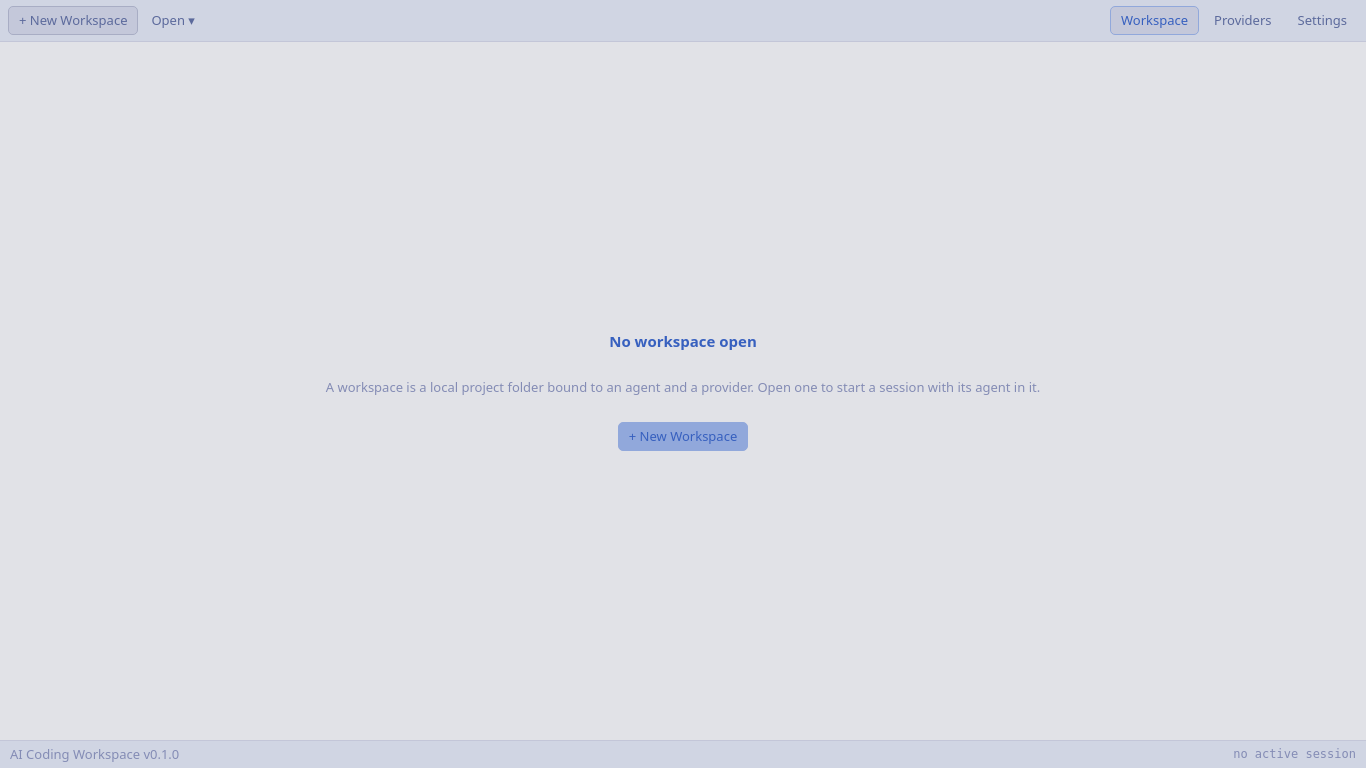
Test case: WorkspaceDialog: end-to-end through the shell › creating a workspace from the empty state opens a tab for it
Click the button "+ New Workspace" below "No workspace open": (683,436) [618,422,748,451]
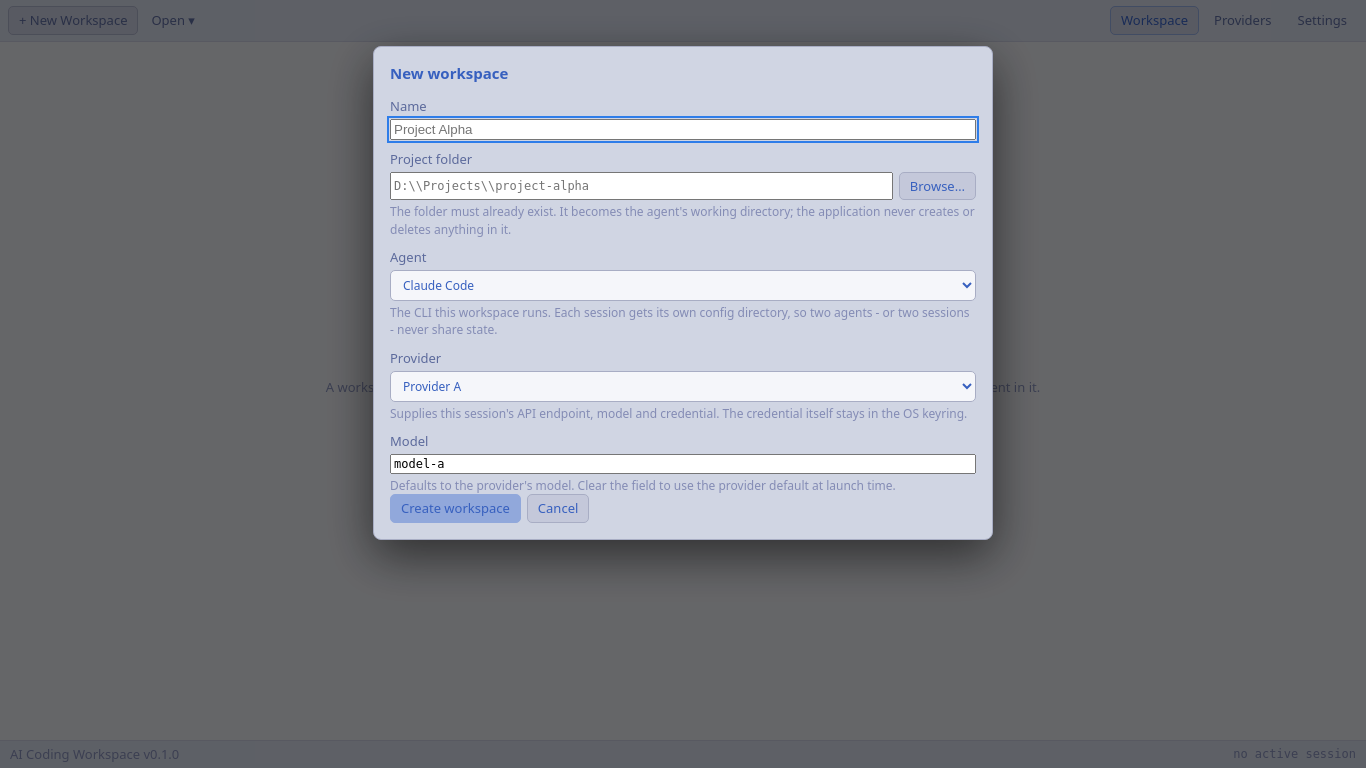
In the field labelled "Name": (683,129) [390,119,976,140], type "Delta"
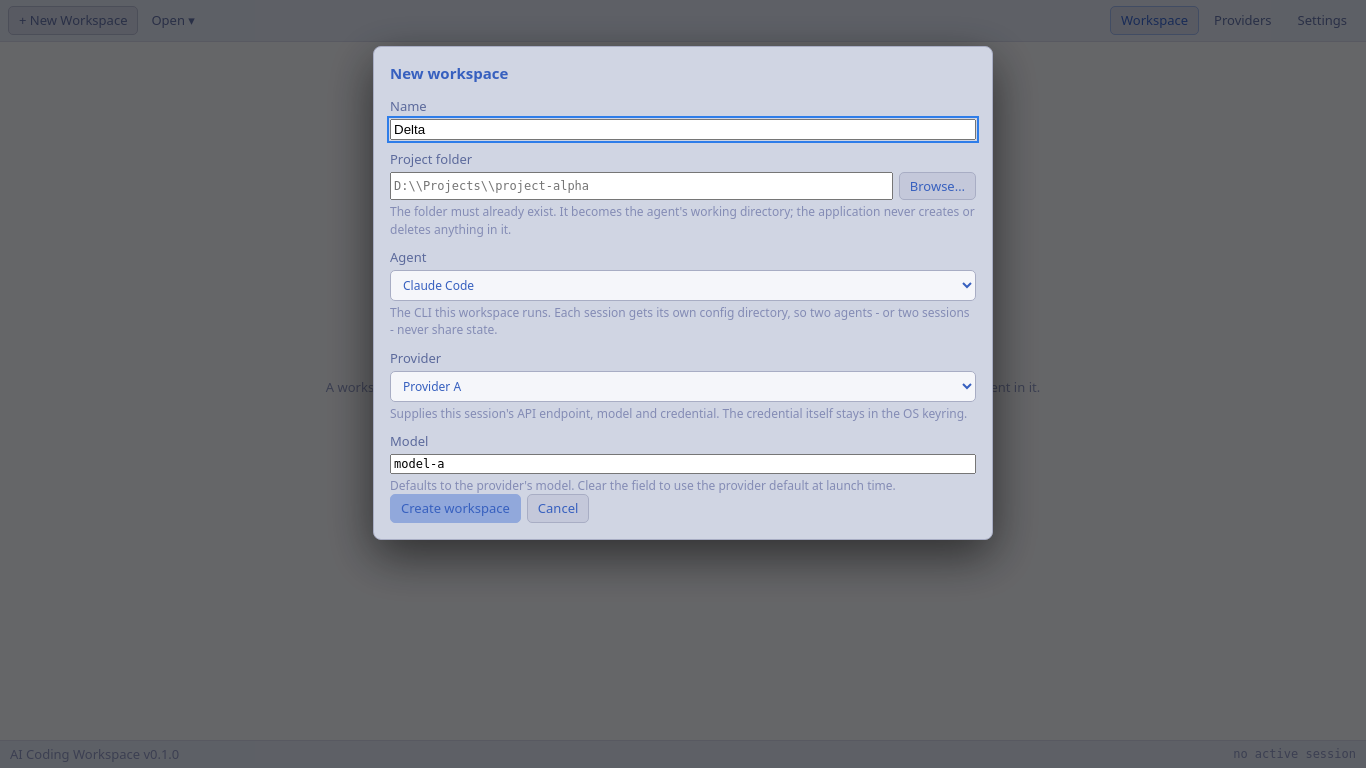
In the field labelled "Project folder": (641,186) [390,172,893,200], type "D:\\Projects\\delta"
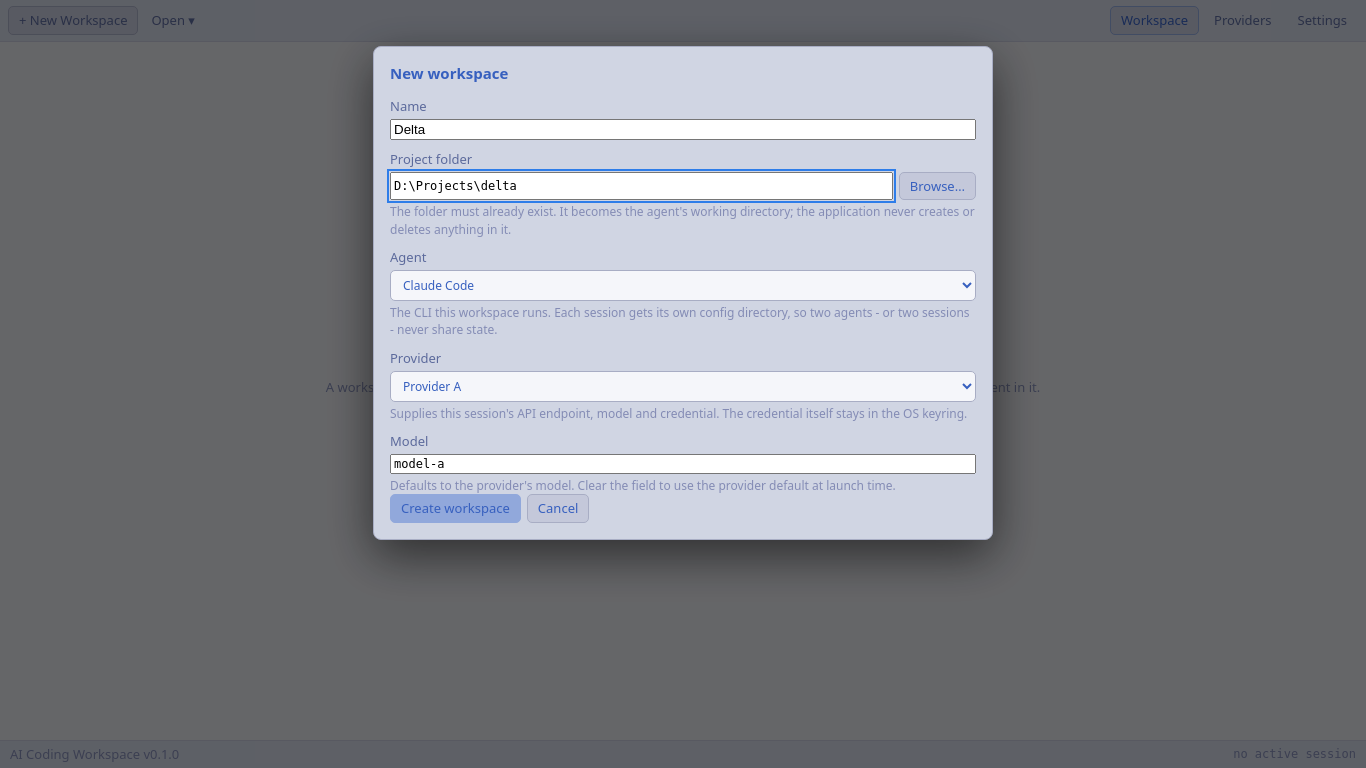
Click the button "Create workspace": (455,509) [390,494,521,523]
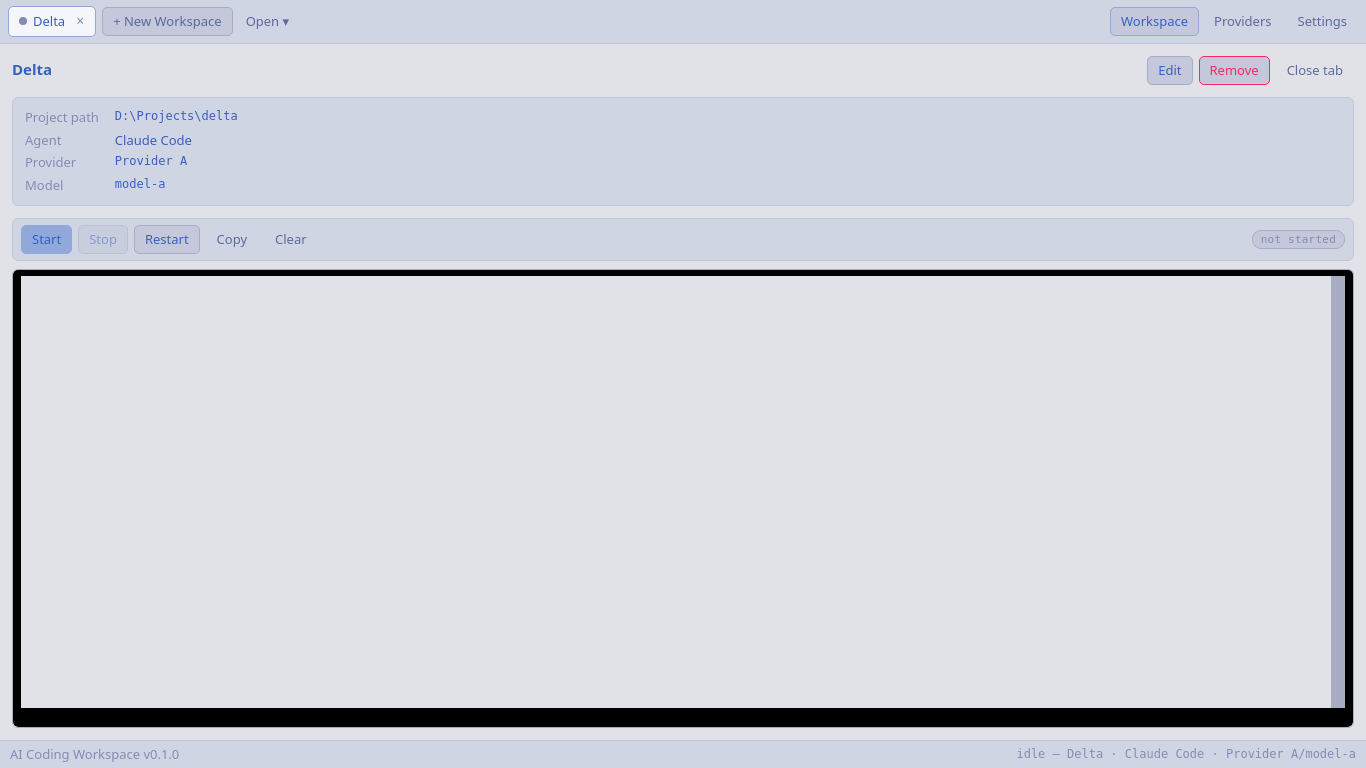
Result: the dialog is gone
Result: the tab "Delta ×" is shown at [8,6,96,37]
